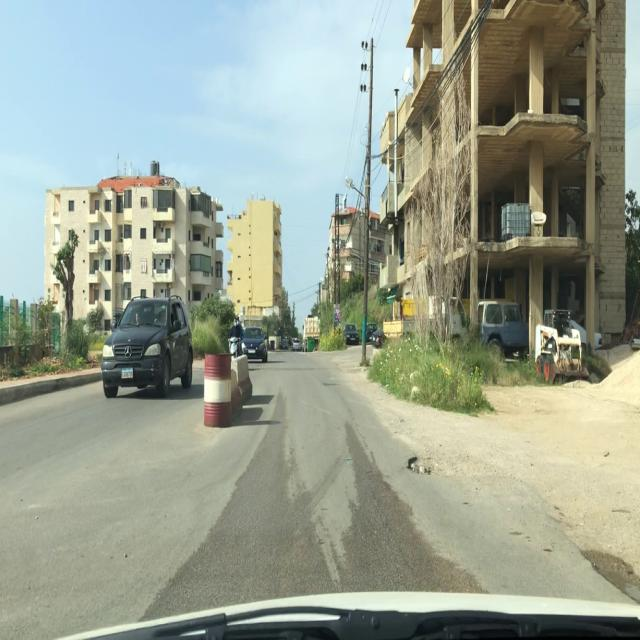Pothole: (406, 456, 443, 476)
